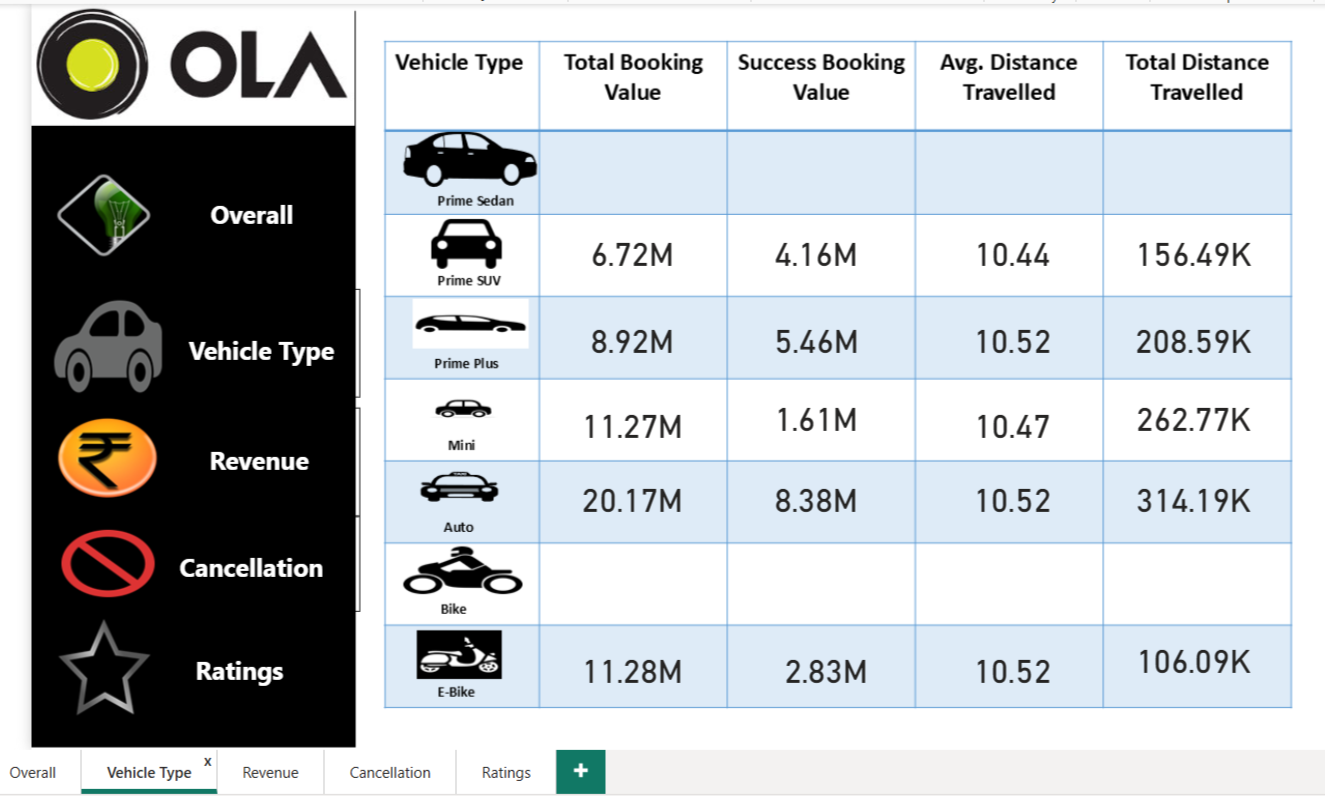

This screenshot's page, from the dashboard's own definition file:
{"tool":"powerbi","page":{"name":"Vehicle Type","canvas":[1280,720],"ordinal":1},"visuals":[{"type":"actionButton","box":[10.9,275.1,306.4,105],"z":0},{"type":"actionButton","box":[10.9,389.7,306.4,105],"z":1000},{"type":"actionButton","box":[10.9,494.6,306.4,91.7],"z":2000},{"type":"actionButton","box":[0,590.1,306,104.3],"z":3000},{"type":"card","fields":{"Values":["Sum(Bengaluru_Ride_Booking_Data_Oct2025 (2).Booking_Value_INR)"]},"box":[503.6,204.5,153.7,71.4],"z":4000},{"type":"card","fields":{"Values":["Sum(Bengaluru_Ride_Booking_Data_Oct2025 (2).Booking_Value_INR)"]},"box":[503.6,288.2,153.7,71.4],"z":5000},{"type":"card","fields":{"Values":["Sum(Bengaluru_Ride_Booking_Data_Oct2025 (2).Booking_Value_INR)"]},"box":[503.6,370.5,153.7,71.4],"z":6000},{"type":"card","fields":{"Values":["Sum(Bengaluru_Ride_Booking_Data_Oct2025 (2).Booking_Value_INR)"]},"box":[503.6,441.9,153.7,71.4],"z":7000},{"type":"card","fields":{"Values":["Sum(Bengaluru_Ride_Booking_Data_Oct2025 (2).Booking_Value_INR)"]},"box":[503.6,606.5,153.7,71.4],"z":8000},{"type":"card","fields":{"Values":["Sum(Bengaluru_Ride_Booking_Data_Oct2025 (2).Booking_Value_INR)"]},"box":[680.6,204.5,153.7,71.4],"z":9000},{"type":"card","fields":{"Values":["Sum(Bengaluru_Ride_Booking_Data_Oct2025 (2).Booking_Value_INR)"]},"box":[680.6,288.2,153.7,71.4],"z":10000},{"type":"card","fields":{"Values":["Avg(Bengaluru_Ride_Booking_Data_Oct2025 (2).Ride_Distance_km)"]},"box":[870,370.5,153.7,71.4],"z":11000},{"type":"card","fields":{"Values":["Sum(Bengaluru_Ride_Booking_Data_Oct2025 (2).Booking_Value_INR)"]},"box":[680.6,441.9,153.7,71.4],"z":12000},{"type":"card","fields":{"Values":["Sum(Bengaluru_Ride_Booking_Data_Oct2025 (2).Booking_Value_INR)"]},"box":[690.2,606.5,153.7,71.4],"z":13000},{"type":"card","fields":{"Values":["Avg(Bengaluru_Ride_Booking_Data_Oct2025 (2).Ride_Distance_km)"]},"box":[870,204.5,153.7,71.4],"z":14000},{"type":"card","fields":{"Values":["Avg(Bengaluru_Ride_Booking_Data_Oct2025 (2).Ride_Distance_km)"]},"box":[870,288.2,153.7,71.4],"z":15000},{"type":"card","fields":{"Values":["Sum(Bengaluru_Ride_Booking_Data_Oct2025 (2).Booking_Value_INR)"]},"box":[680.6,363.6,153.7,71.4],"z":16000},{"type":"card","fields":{"Values":["Avg(Bengaluru_Ride_Booking_Data_Oct2025 (2).Ride_Distance_km)"]},"box":[870,441.9,153.7,71.4],"z":17000},{"type":"card","fields":{"Values":["Avg(Bengaluru_Ride_Booking_Data_Oct2025 (2).Ride_Distance_km)"]},"box":[870,606.5,153.7,71.4],"z":18000},{"type":"card","fields":{"Values":["Sum(Bengaluru_Ride_Booking_Data_Oct2025 (2).Ride_Distance_km)"]},"box":[1044.3,204.5,153.7,71.4],"z":19000},{"type":"card","fields":{"Values":["Sum(Bengaluru_Ride_Booking_Data_Oct2025 (2).Ride_Distance_km)"]},"box":[1044.3,363.6,153.7,71.4],"z":20000},{"type":"card","fields":{"Values":["Sum(Bengaluru_Ride_Booking_Data_Oct2025 (2).Ride_Distance_km)"]},"box":[1044.3,441.9,153.7,71.4],"z":21000},{"type":"card","fields":{"Values":["Sum(Bengaluru_Ride_Booking_Data_Oct2025 (2).Ride_Distance_km)"]},"box":[1044.3,596.9,153.7,71.4],"z":22000},{"type":"card","fields":{"Values":["Sum(Bengaluru_Ride_Booking_Data_Oct2025 (2).Ride_Distance_km)"]},"box":[1044.3,288.2,153.7,71.4],"z":23000},{"type":"textbox","box":[119.4,182.5,186.6,57.6],"z":24000},{"type":"textbox","box":[137.2,314.2,168.8,45.3],"z":25000},{"type":"textbox","box":[153.7,419.9,133.1,57.6],"z":27000},{"type":"textbox","box":[137.2,522.8,149.6,45.3],"z":28000},{"type":"textbox","box":[137.2,623,126.2,71.4],"z":29000}]}

Visuals, with their boxes on the page's 1280x720 design canvas (x1, y1, x2, y2). These are canvas units, not pixel positions in the 1325x796 screenshot, which may show the page scaled, cropped or inside an application window:
actionButton: Rect(11, 275, 317, 380)
actionButton: Rect(11, 390, 317, 495)
actionButton: Rect(11, 495, 317, 586)
actionButton: Rect(0, 590, 306, 694)
card - Sum(Bengaluru_Ride_Booking_Data_Oct2025 (2).Booking_Value_INR): Rect(504, 204, 657, 276)
card - Sum(Bengaluru_Ride_Booking_Data_Oct2025 (2).Booking_Value_INR): Rect(504, 288, 657, 360)
card - Sum(Bengaluru_Ride_Booking_Data_Oct2025 (2).Booking_Value_INR): Rect(504, 370, 657, 442)
card - Sum(Bengaluru_Ride_Booking_Data_Oct2025 (2).Booking_Value_INR): Rect(504, 442, 657, 513)
card - Sum(Bengaluru_Ride_Booking_Data_Oct2025 (2).Booking_Value_INR): Rect(504, 606, 657, 678)
card - Sum(Bengaluru_Ride_Booking_Data_Oct2025 (2).Booking_Value_INR): Rect(681, 204, 834, 276)
card - Sum(Bengaluru_Ride_Booking_Data_Oct2025 (2).Booking_Value_INR): Rect(681, 288, 834, 360)
card - Avg(Bengaluru_Ride_Booking_Data_Oct2025 (2).Ride_Distance_km): Rect(870, 370, 1024, 442)
card - Sum(Bengaluru_Ride_Booking_Data_Oct2025 (2).Booking_Value_INR): Rect(681, 442, 834, 513)
card - Sum(Bengaluru_Ride_Booking_Data_Oct2025 (2).Booking_Value_INR): Rect(690, 606, 844, 678)
card - Avg(Bengaluru_Ride_Booking_Data_Oct2025 (2).Ride_Distance_km): Rect(870, 204, 1024, 276)
card - Avg(Bengaluru_Ride_Booking_Data_Oct2025 (2).Ride_Distance_km): Rect(870, 288, 1024, 360)
card - Sum(Bengaluru_Ride_Booking_Data_Oct2025 (2).Booking_Value_INR): Rect(681, 364, 834, 435)
card - Avg(Bengaluru_Ride_Booking_Data_Oct2025 (2).Ride_Distance_km): Rect(870, 442, 1024, 513)
card - Avg(Bengaluru_Ride_Booking_Data_Oct2025 (2).Ride_Distance_km): Rect(870, 606, 1024, 678)
card - Sum(Bengaluru_Ride_Booking_Data_Oct2025 (2).Ride_Distance_km): Rect(1044, 204, 1198, 276)
card - Sum(Bengaluru_Ride_Booking_Data_Oct2025 (2).Ride_Distance_km): Rect(1044, 364, 1198, 435)
card - Sum(Bengaluru_Ride_Booking_Data_Oct2025 (2).Ride_Distance_km): Rect(1044, 442, 1198, 513)
card - Sum(Bengaluru_Ride_Booking_Data_Oct2025 (2).Ride_Distance_km): Rect(1044, 597, 1198, 668)
card - Sum(Bengaluru_Ride_Booking_Data_Oct2025 (2).Ride_Distance_km): Rect(1044, 288, 1198, 360)
textbox: Rect(119, 182, 306, 240)
textbox: Rect(137, 314, 306, 360)
textbox: Rect(154, 420, 287, 478)
textbox: Rect(137, 523, 287, 568)
textbox: Rect(137, 623, 263, 694)
